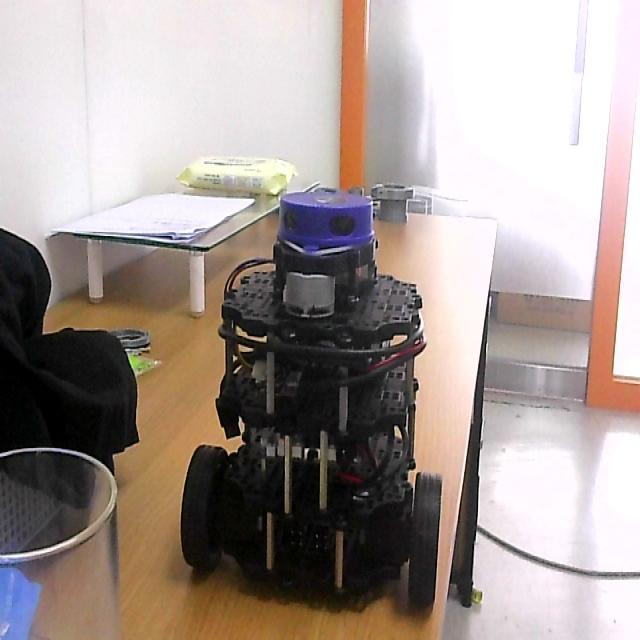turtle: (179, 189, 442, 616)
